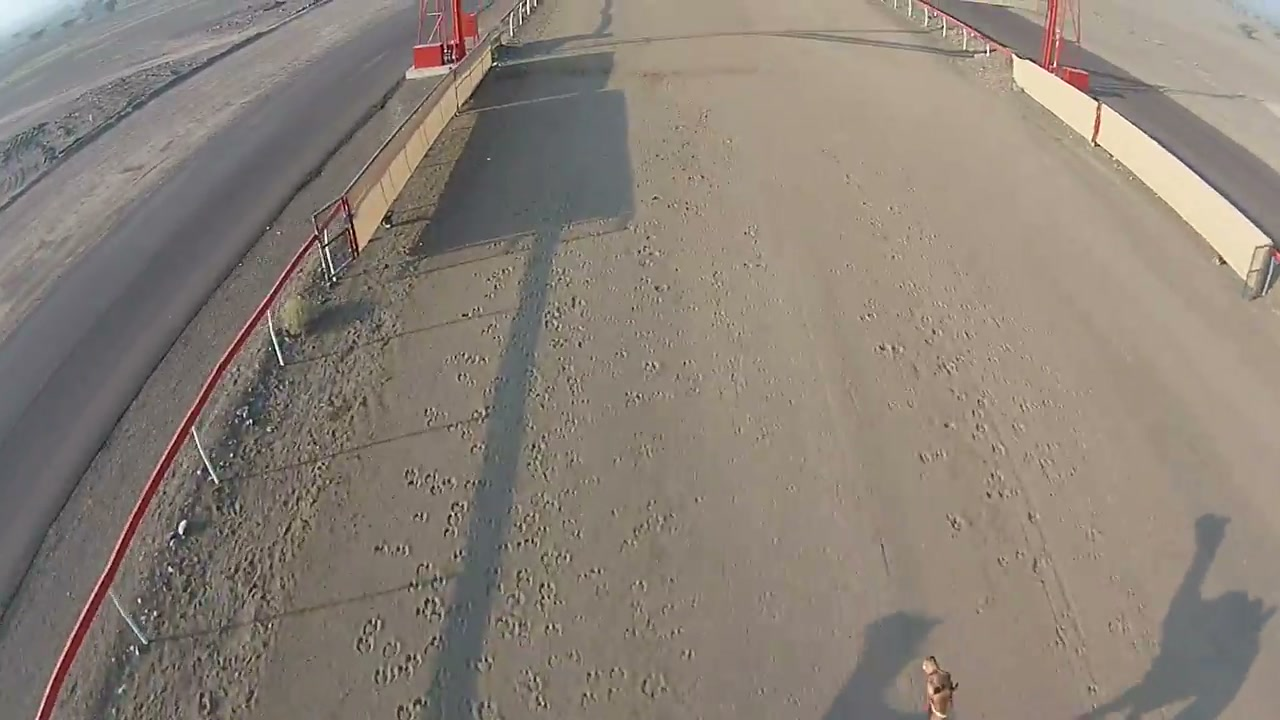animal_footprint: (349, 238, 551, 711)
